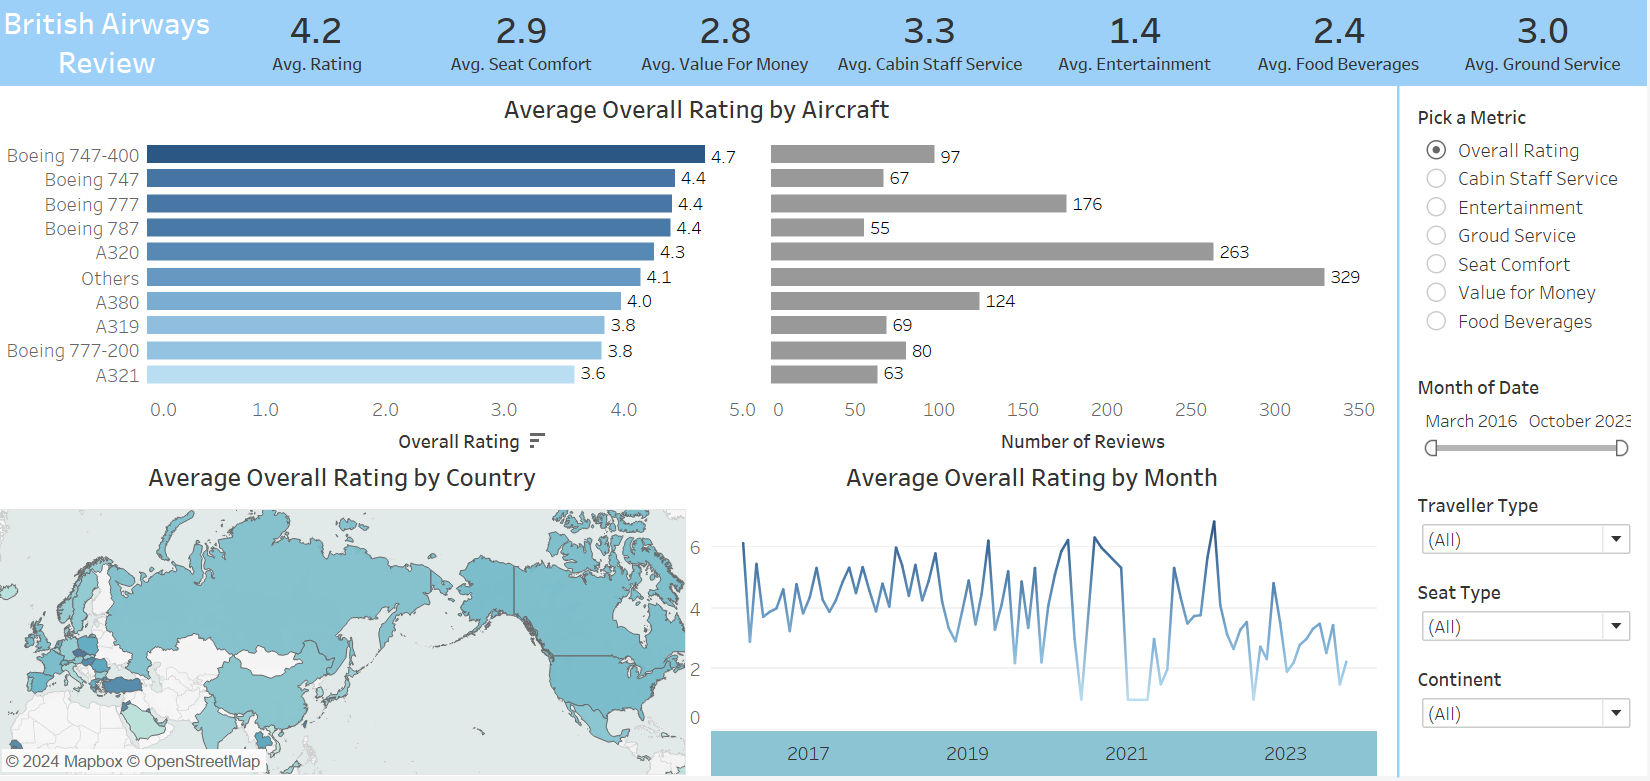

What the dashboard file says about the page in this screenshot:
{"tool":"tableau","page":{"name":"Dashboard 1","canvas":[1100,520],"ordinal":0},"visuals":[{"type":"text","box":[0,0,146,60]},{"type":"worksheet","title":"rate numers","mark":"Automatic","box":[145,0,955,60]},{"type":"worksheet","title":"aircraft","mark":"Automatic","cols":["Calculation_1219631135284645889","Calculation_1219631135284645889"],"box":[0,60,933,245]},{"type":"blank","box":[933,60,2,461]},{"type":"parameter","param":"[Parameters].[Parameter 1]","box":[943,68,153,180]},{"type":"filter","title":"map","param":"[federated.0xviwsz1scxcxn1ahvlxd12sjos8].[tmn:date:qk]","box":[943,248,153,79]},{"type":"worksheet","title":"map","mark":"Automatic","box":[0,305,460,215]},{"type":"worksheet","title":"month","mark":"Automatic","rows":["Calculation_1219631135284645889"],"cols":["date"],"box":[460,305,460,215]},{"type":"filter","title":"map","param":"[federated.0xviwsz1scxcxn1ahvlxd12sjos8].[none:traveller_type:nk]","box":[943,327,153,58]},{"type":"filter","title":"map","param":"[federated.0xviwsz1scxcxn1ahvlxd12sjos8].[none:seat_type:nk]","box":[943,385,153,58]},{"type":"filter","title":"map","param":"[federated.0xviwsz1scxcxn1ahvlxd12sjos8].[none:Continent:nk]","box":[943,443,153,58]}]}

Visuals, with their boxes in screenshot pixels (x1, y1, x2, y2), scaled from the page's 1100x520 canvas onto the 1650x781 screenshot:
text: (x1=0, y1=0, x2=219, y2=90)
"rate numers" worksheet: (x1=218, y1=0, x2=1649, y2=90)
"aircraft" worksheet: (x1=0, y1=90, x2=1400, y2=458)
blank: (x1=1400, y1=90, x2=1402, y2=780)
parameter: (x1=1414, y1=102, x2=1644, y2=372)
"map" filter: (x1=1414, y1=372, x2=1644, y2=491)
"map" worksheet: (x1=0, y1=458, x2=690, y2=780)
"month" worksheet: (x1=690, y1=458, x2=1380, y2=780)
"map" filter: (x1=1414, y1=491, x2=1644, y2=578)
"map" filter: (x1=1414, y1=578, x2=1644, y2=665)
"map" filter: (x1=1414, y1=665, x2=1644, y2=752)
